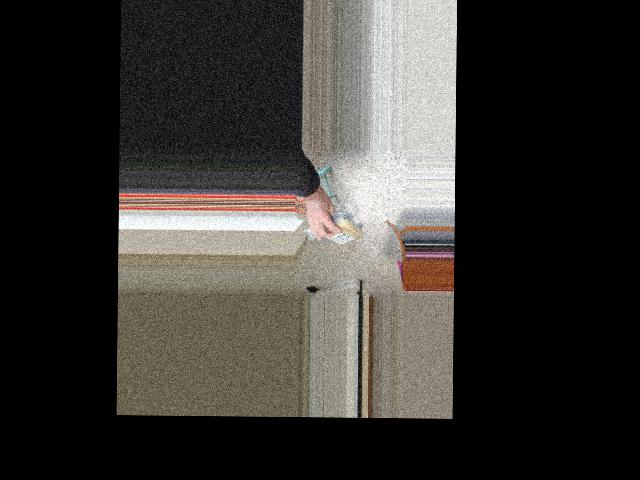cheese: (319, 216, 365, 246)
